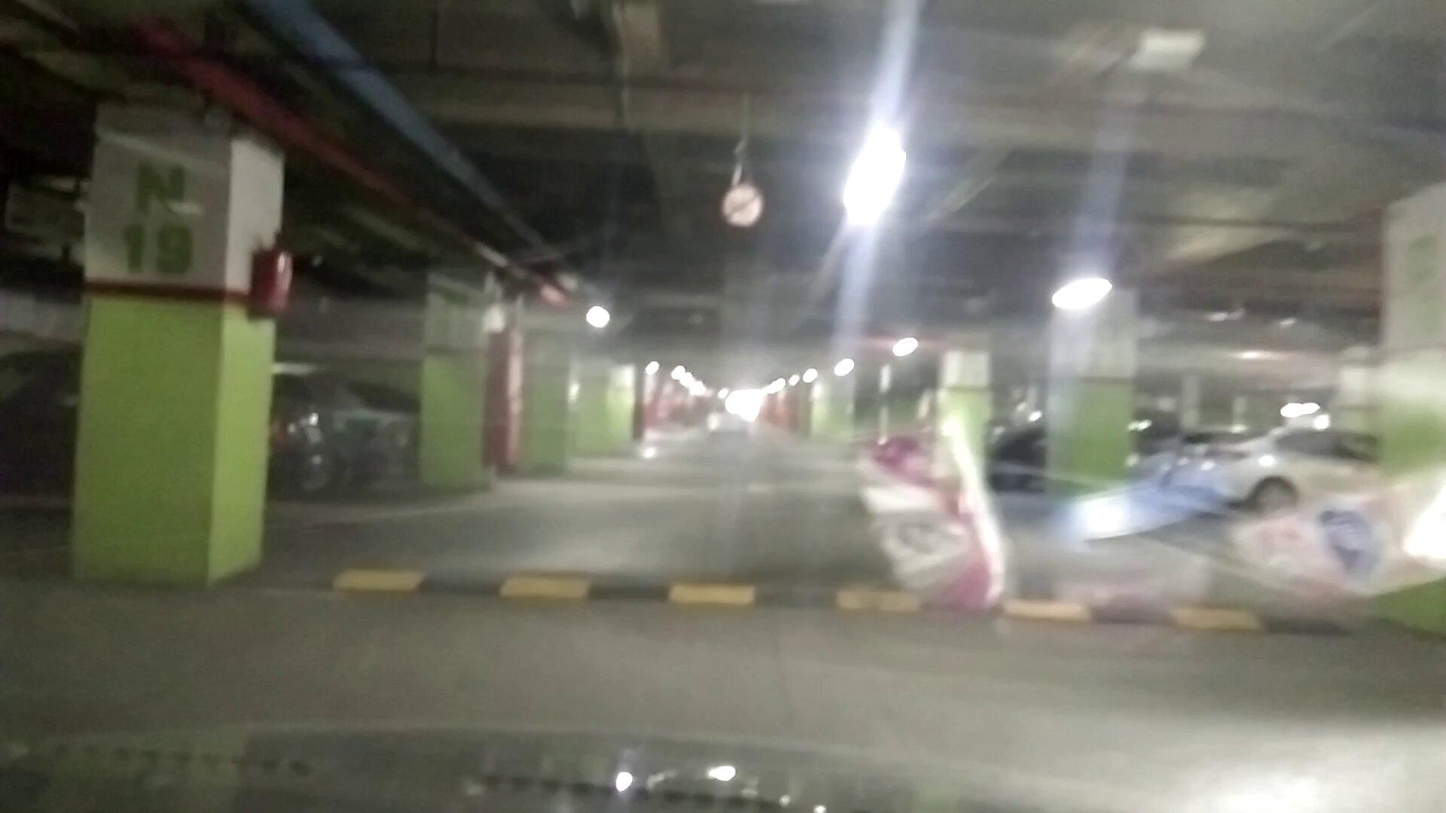Bump: (324, 555, 1352, 644)
